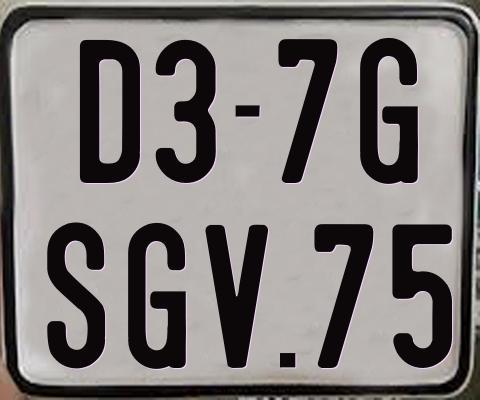3: (152, 39, 215, 184)
5: (392, 221, 457, 368)
7: (312, 222, 374, 369), (278, 38, 338, 183)
D: (79, 37, 145, 183)
G: (126, 221, 186, 368), (357, 37, 415, 189)
S: (46, 220, 107, 366)
V: (204, 222, 269, 371)
